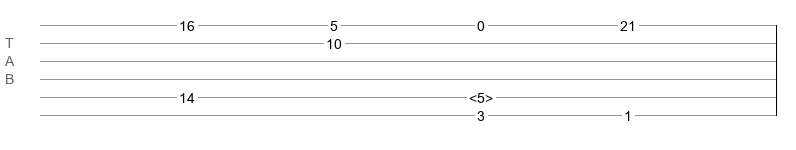0: (477, 18, 485, 28)
1: (624, 108, 632, 118)
10: (326, 36, 342, 46)
14: (179, 90, 195, 100)
16: (179, 18, 195, 28)
21: (620, 18, 636, 28)
3: (477, 108, 485, 118)
5: (330, 18, 338, 28)
harmonic: (469, 90, 493, 100)
